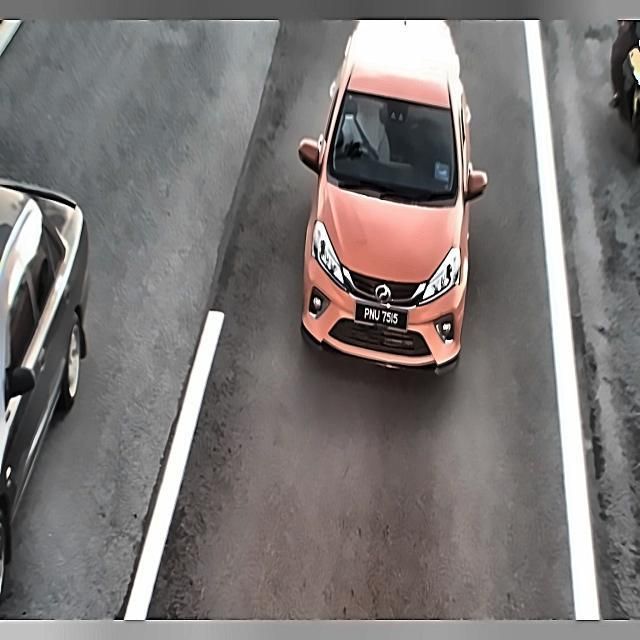car: (350, 294, 412, 335)
